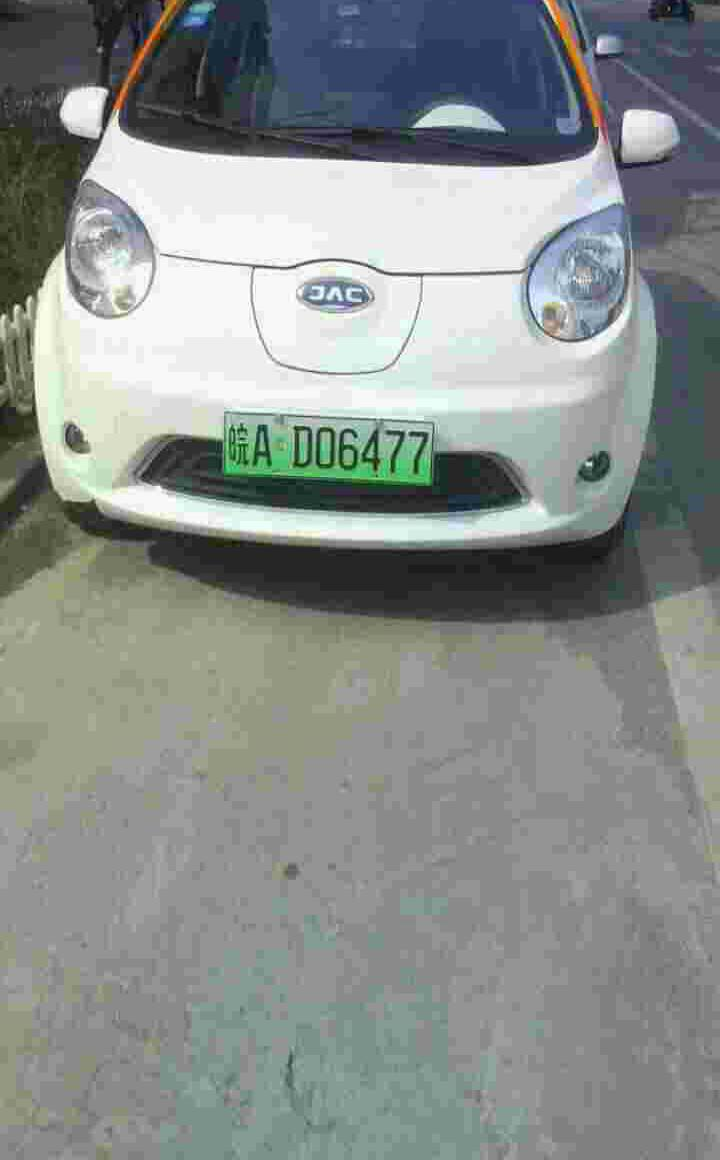car_green: (221, 409, 443, 484)
